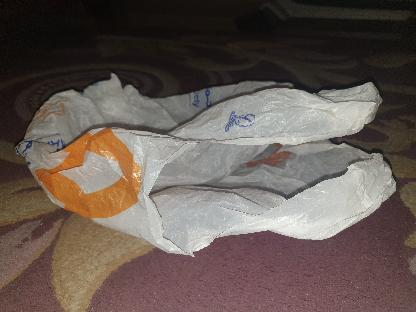Plastic Bag: (19, 74, 395, 252)
